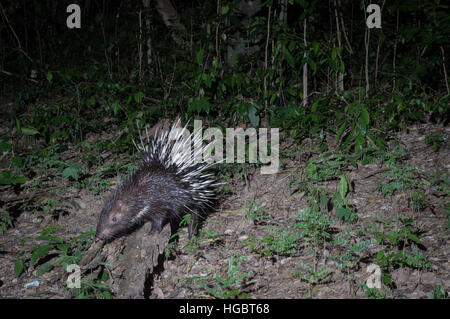porcupine: (81, 118, 227, 260)
